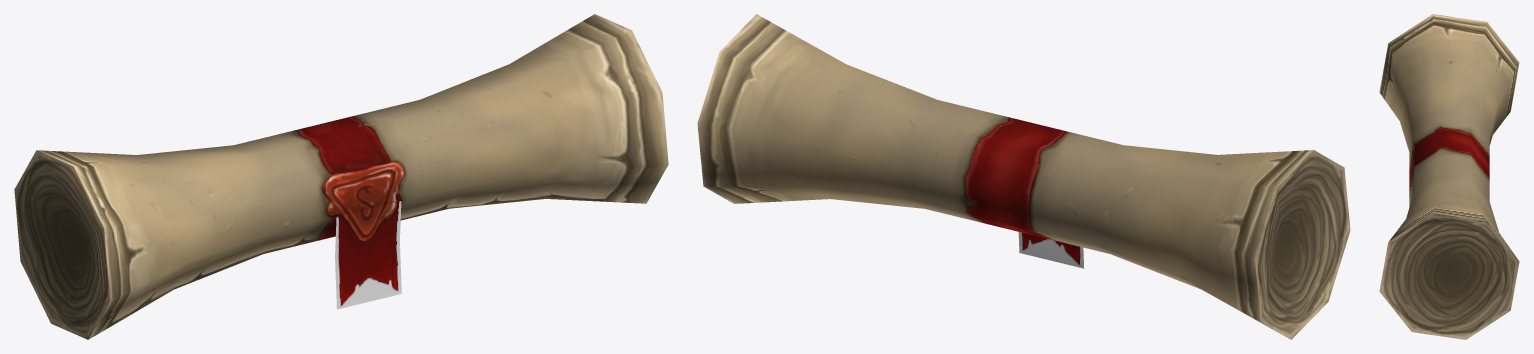
File: Scroll.fbx
The picture shows the model from 3 angles, left to right: view 1: azimuth 30°, elevation 25°; view 2: azimuth 150°, elevation 25°; view 3: azimuth 270°, elevation 25°; orthographic projection. The views are drawn at different scales.
Visible parts, largest first — view 1: Scroll; view 2: Scroll; view 3: Scroll.
Part boxes in pixels (x1,y1,x2,y2): Scroll: [14, 14, 668, 339]; Scroll: [697, 14, 1350, 339]; Scroll: [1379, 14, 1519, 339].
Bounding box in the file's own units: 582 × 191 × 173.
1 material, 1 textured.
